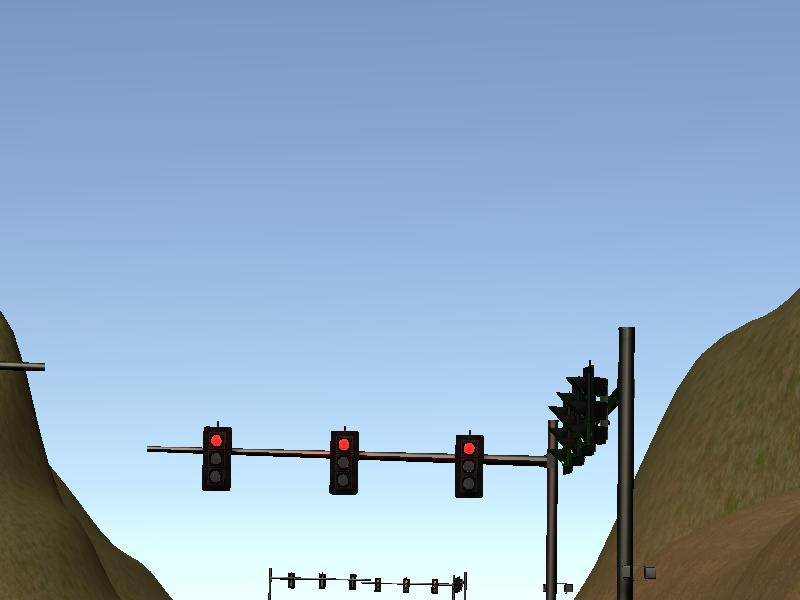Red: (199, 424, 233, 493), (328, 428, 362, 497), (451, 431, 485, 500)
